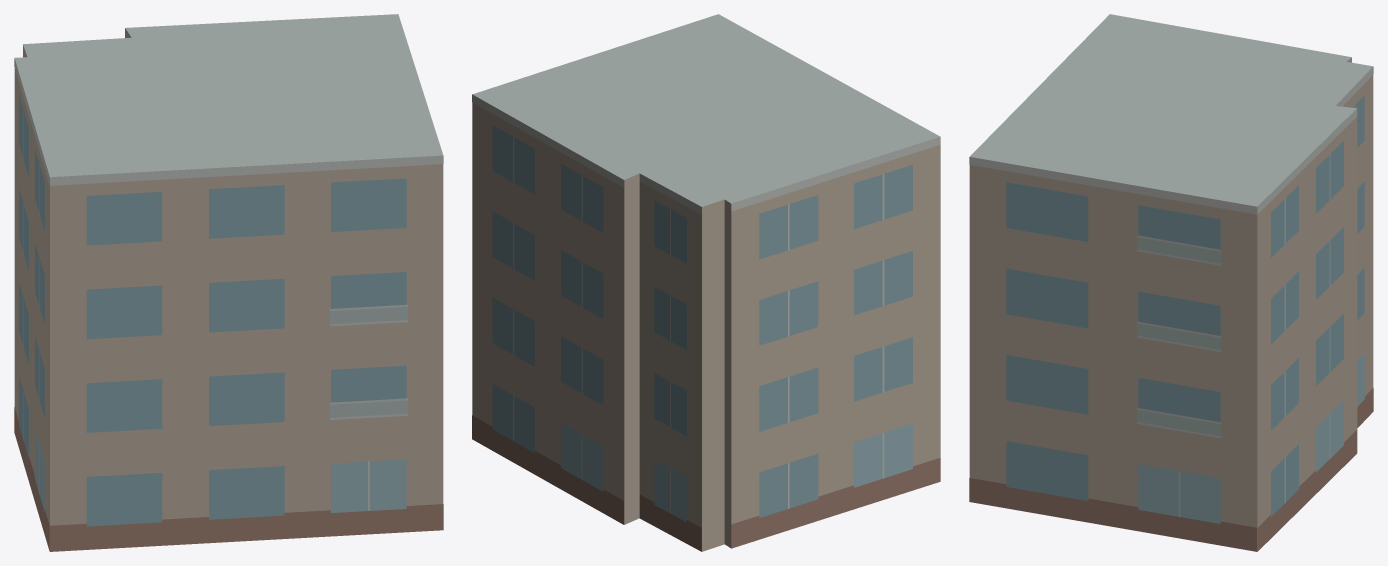
Rendered from survey-upis-32566656.glb.
3 views of the same model, side by side, from view 1: azimuth 30°, elevation 25°; view 2: azimuth 150°, elevation 25°; view 3: azimuth 270°, elevation 25° (orthographic). The views are drawn at different scales.
Visible parts, largest first — view 1: survey-upis-32566656.tmp; view 2: survey-upis-32566656.tmp; view 3: survey-upis-32566656.tmp.
Part boxes in pixels (x1=…): survey-upis-32566656.tmp: x1=14, y1=14, x2=443, y2=551; survey-upis-32566656.tmp: x1=472, y1=14, x2=940, y2=551; survey-upis-32566656.tmp: x1=969, y1=14, x2=1373, y2=551.
Size of the model in its own units: 12.7 by 10.6 by 11.26.
